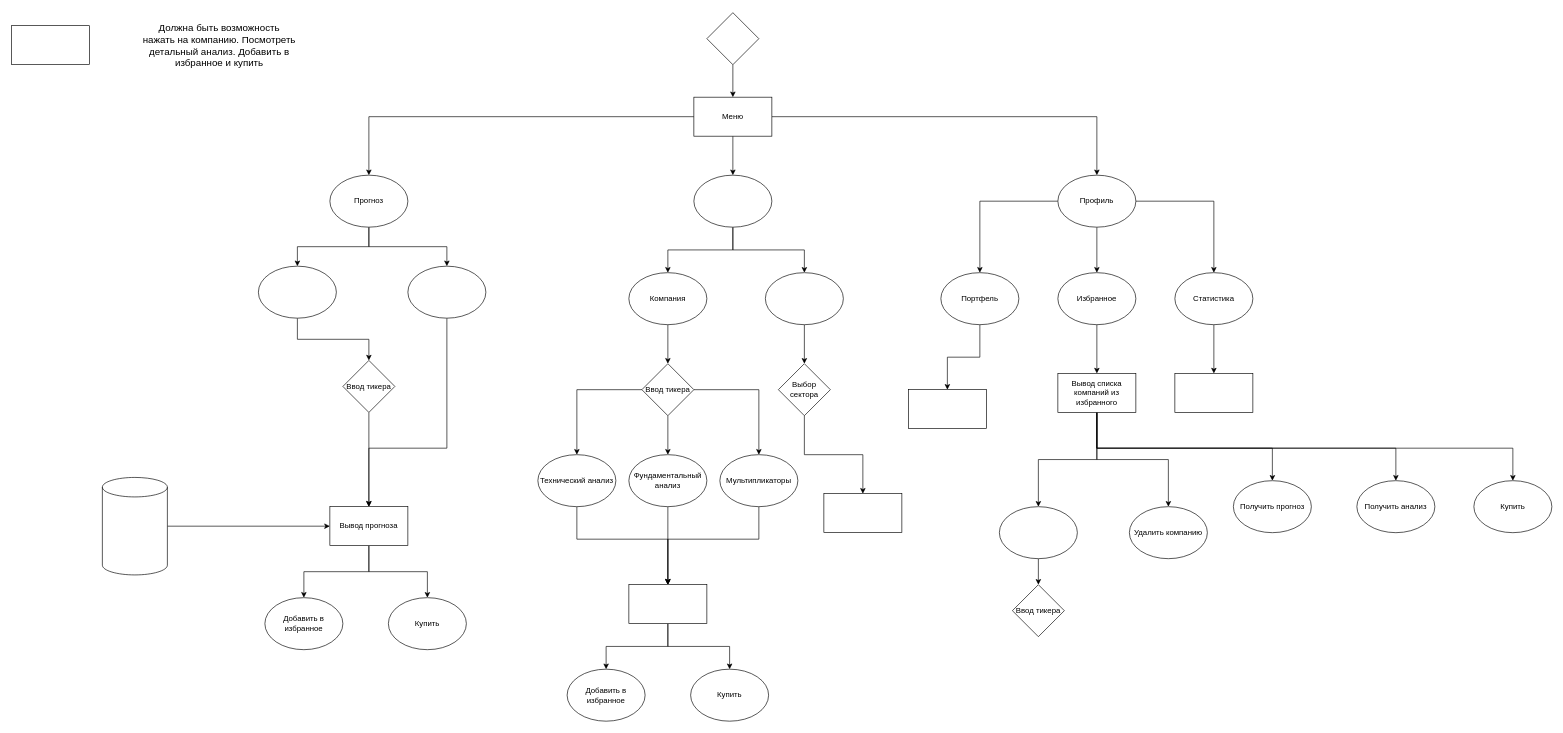
Some shapes in this 1563 by 733 pixel diagram are drawn without their labels. Each missing label, with the box of its shape:
/start: (706, 12, 759, 65)
ML модель для прогноза: (102, 477, 167, 575)
Анализ: (693, 175, 772, 227)
Ввести тикер: (258, 266, 336, 318)
Выбрать из избранного: (407, 266, 486, 318)
Вывод анализа: (628, 584, 707, 624)
Вывод анализа по сектору: (823, 493, 902, 533)
Вывод портфеля: (908, 389, 986, 429)
Вывод статистики аккаунта: (1174, 373, 1253, 412)
Добавить компанию: (999, 506, 1077, 559)
Еженедельная рассылка с рекомендациями к покупке: (11, 25, 89, 65)
Сектор: (765, 272, 843, 325)
